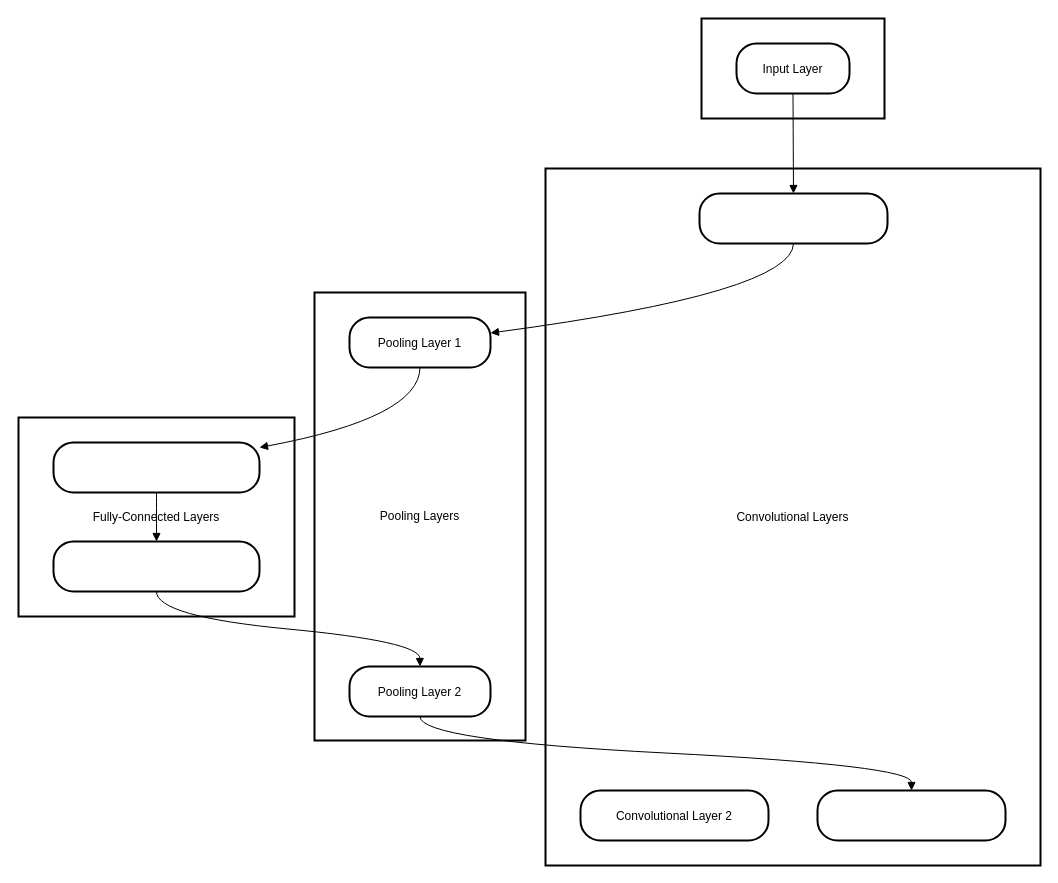
Image size: 1058x883. Some labels were removed from this diagram. Each missing label, with the centre of its shape:
Convolutional Layer 1: the point at 793,218
Convolutional Layer 3: the point at 911,815
Fully-Connected Layer 1: the point at 156,467
Fully-Connected Layer 2: the point at 156,566
